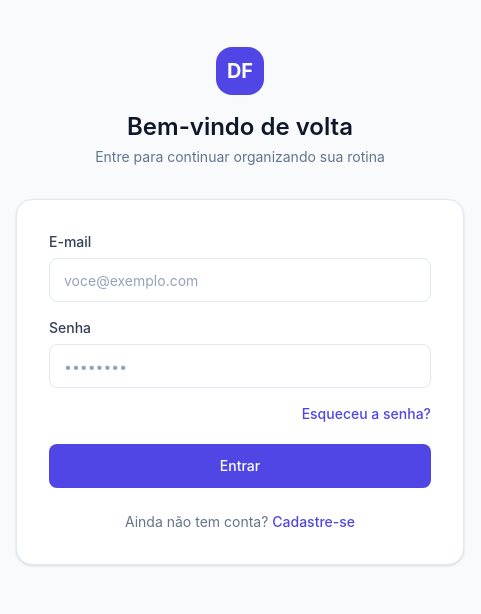
Test case: LoginPage › shows an error message when credentials are rejected
Type "mateus@example.com" into the field labelled "E-mail" at {"x": 240, "y": 280}, box [49,258,431,302]
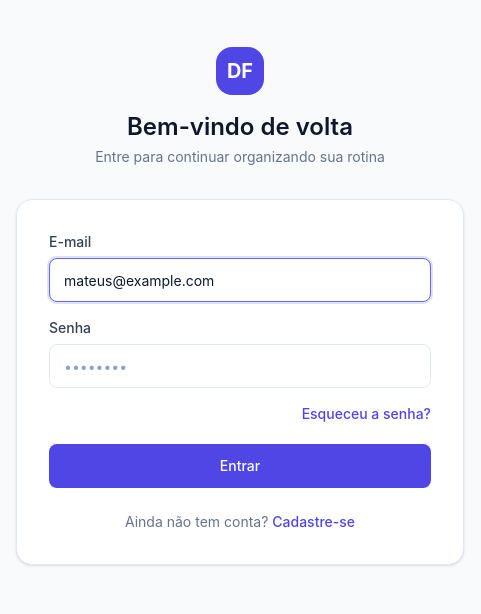
Type "WrongPass123" into the password field labelled "Senha" at {"x": 240, "y": 366}, box [49,344,431,388]
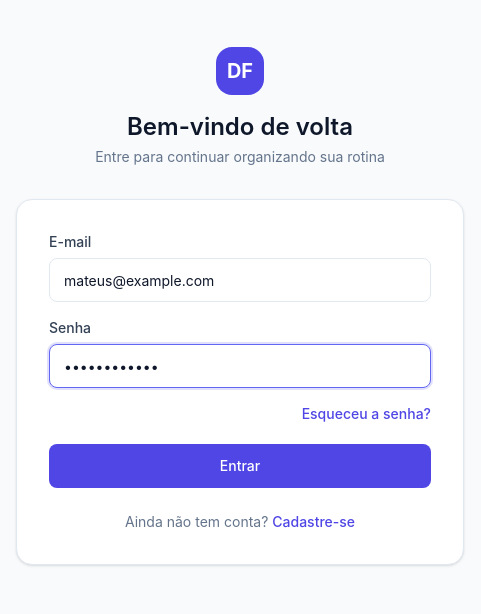
Click the button "Entrar" at {"x": 240, "y": 466}, box [49,444,431,488]
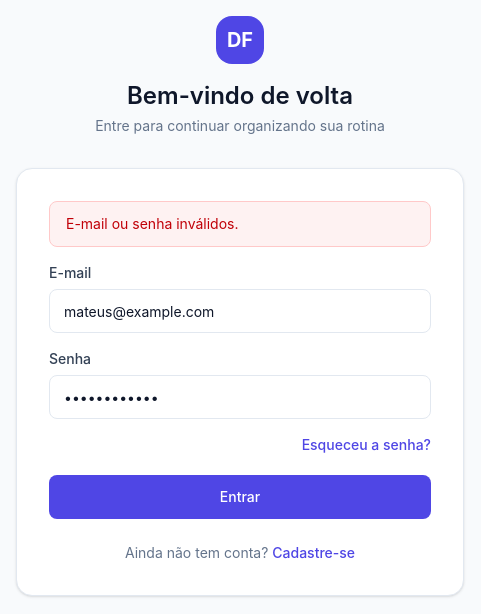
Expected: the message reads "E-mail ou senha inválidos.", [66,215,238,232]
